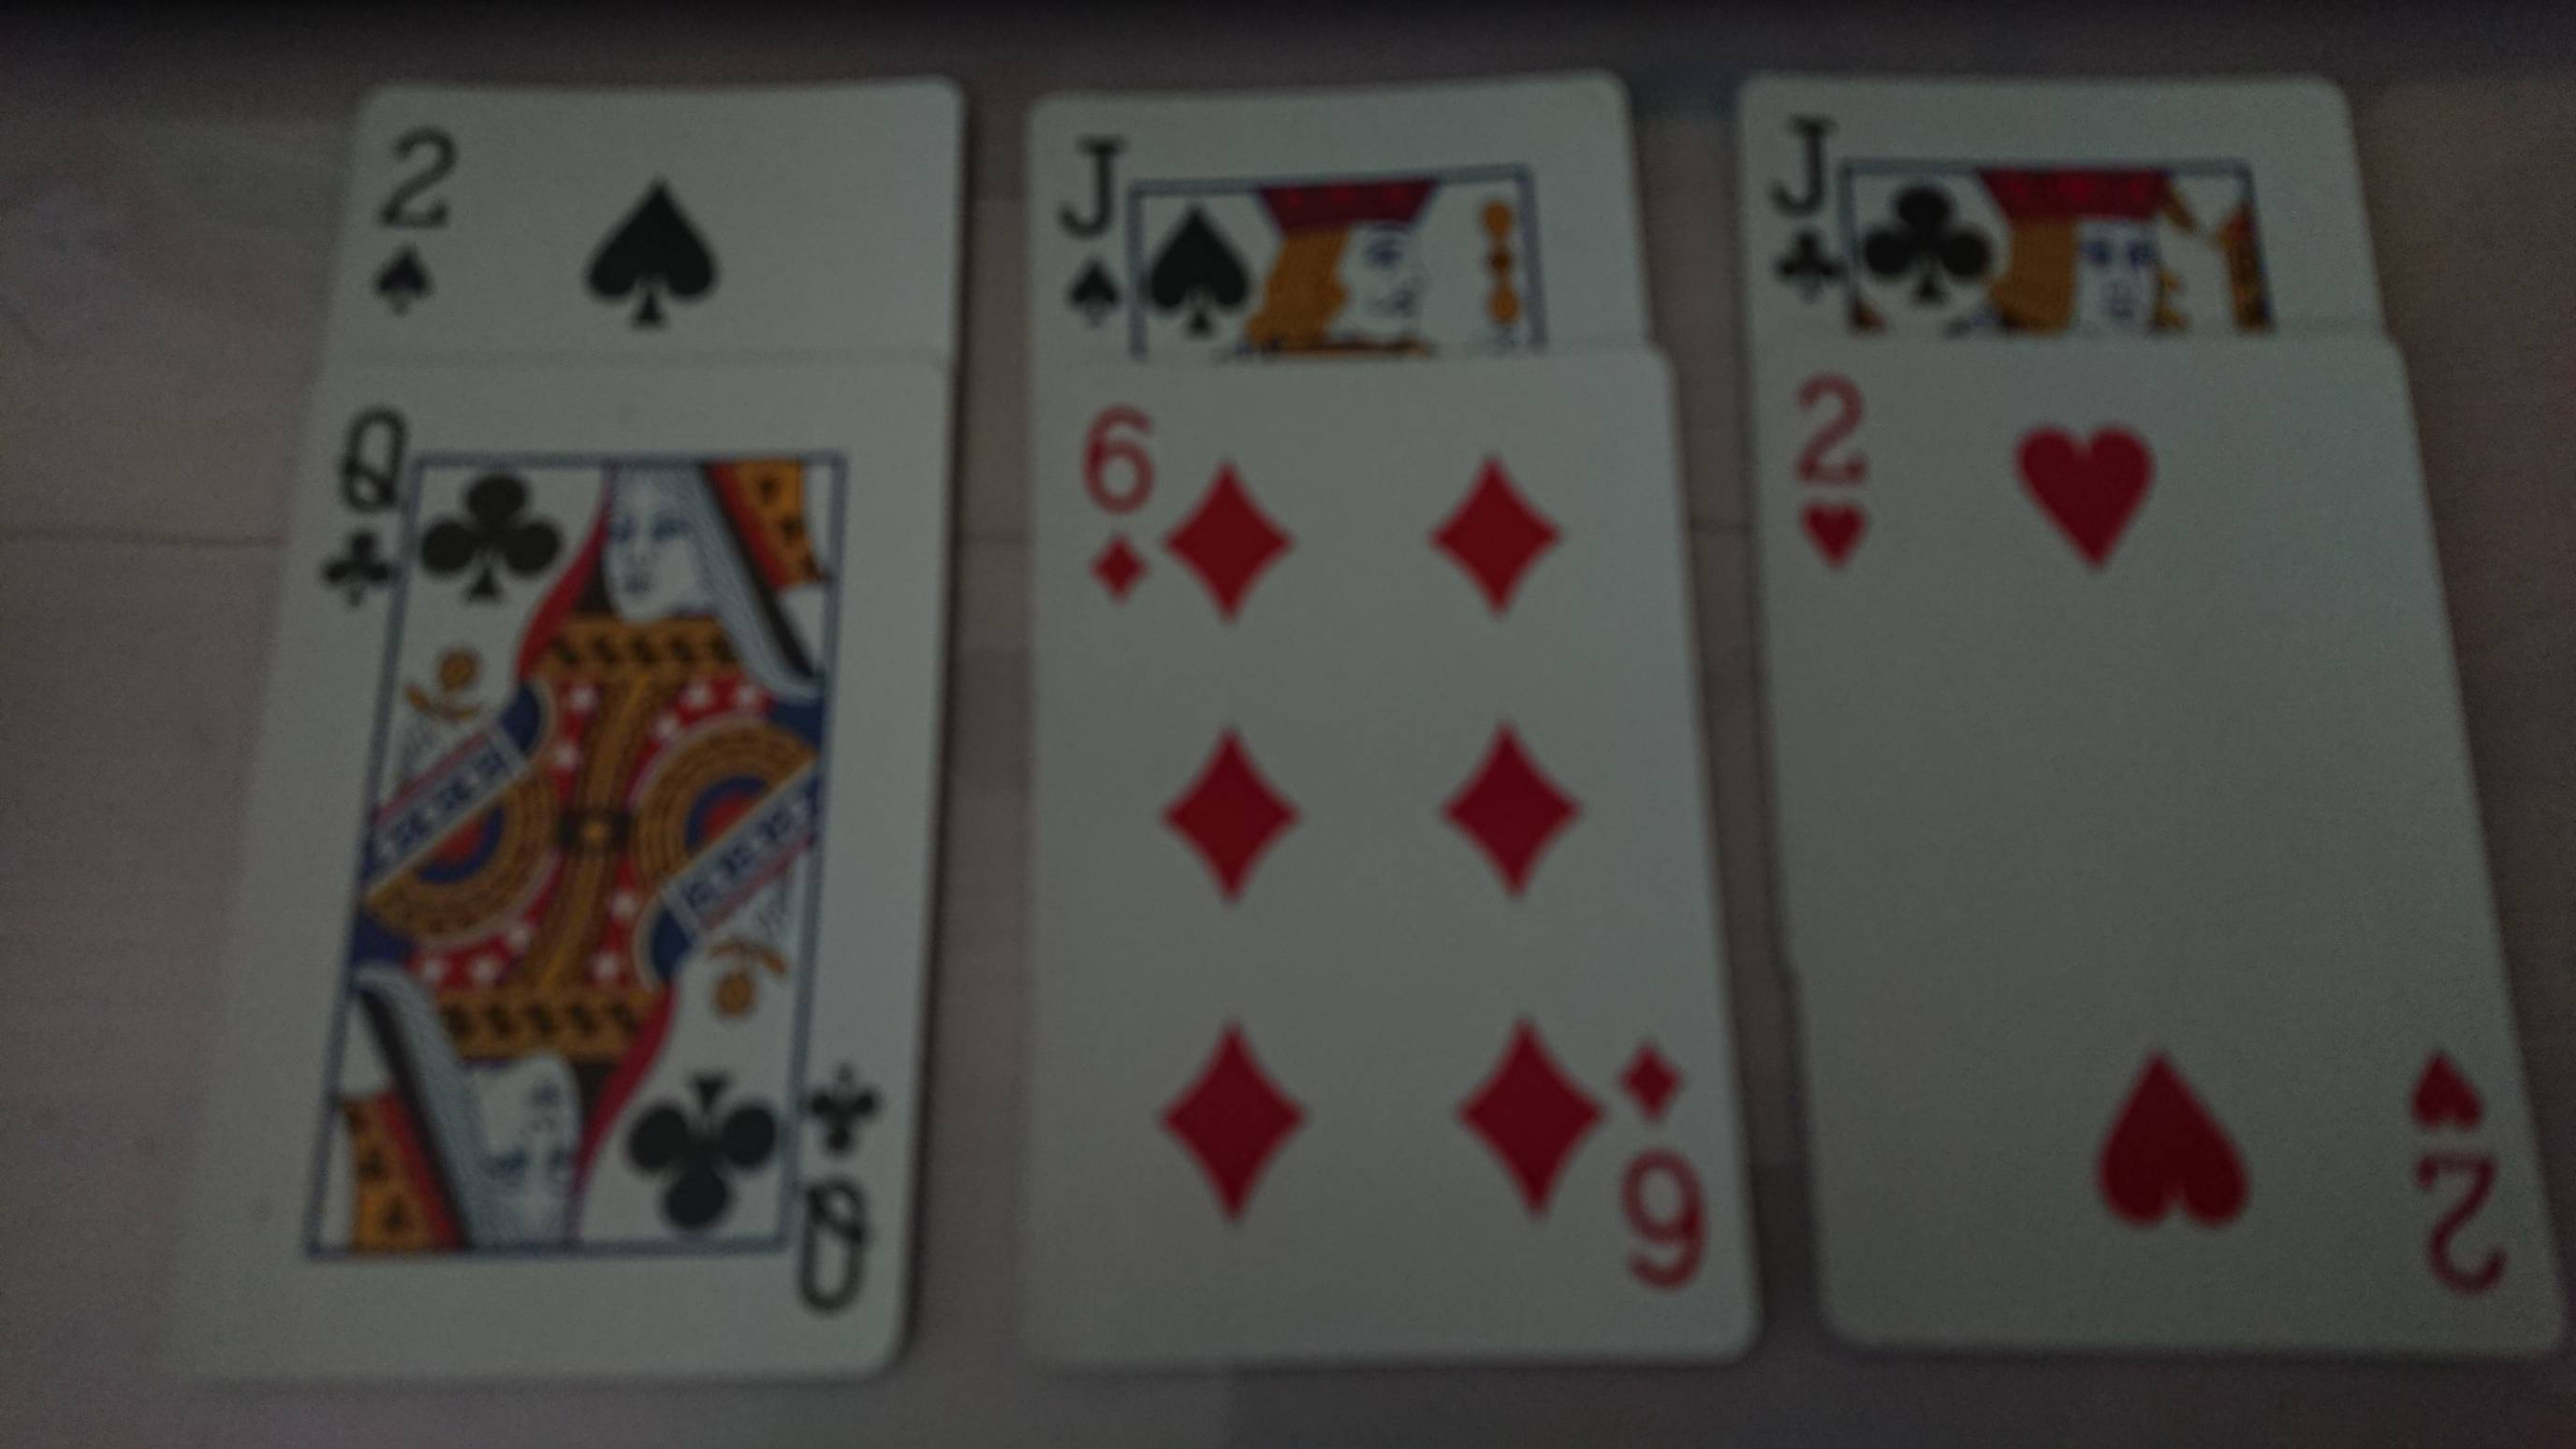2H: (1783, 370, 1886, 579)
2S: (366, 113, 464, 329)
6D: (1070, 395, 1164, 616)
JC: (1759, 110, 1858, 313)
JS: (1044, 124, 1138, 341)
QC: (313, 396, 418, 619)
